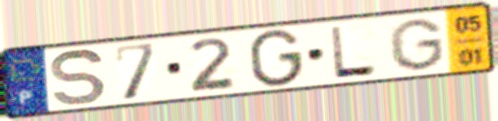2: (189, 35, 240, 96)
7: (114, 40, 158, 102)
G: (248, 27, 305, 89), (386, 17, 447, 73)
L: (327, 24, 380, 80)
S: (48, 47, 110, 108)
